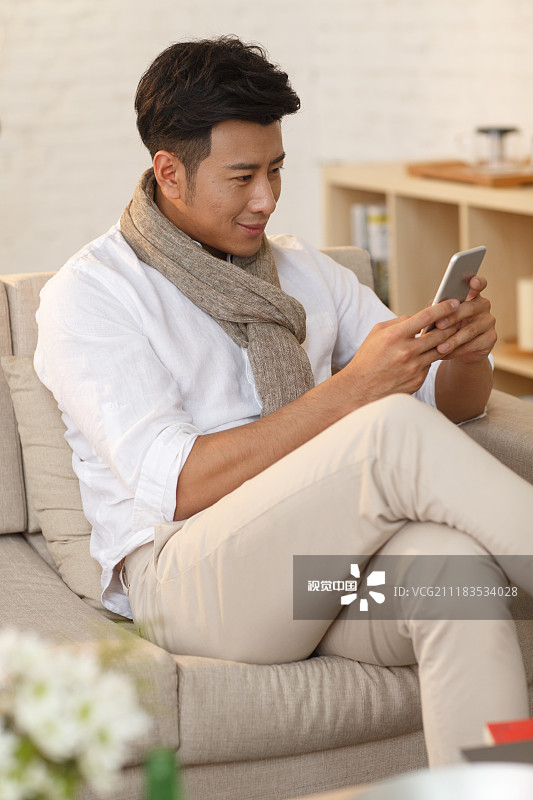reading: (333, 239, 512, 408)
